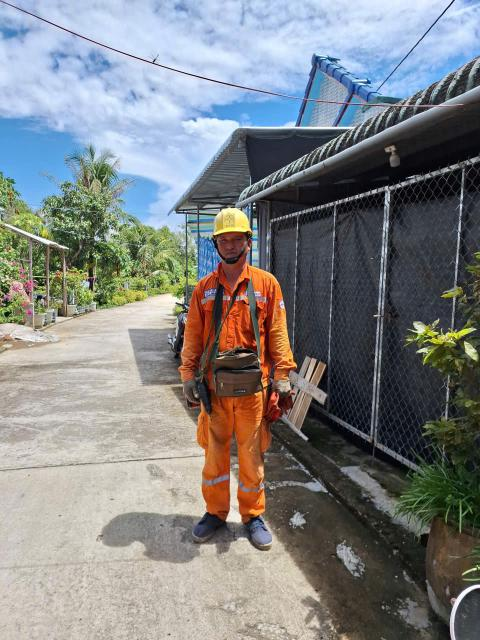gloves: (173, 372, 212, 412), (264, 370, 299, 404)
helmet: (202, 210, 262, 238)
shoes: (182, 495, 227, 544), (239, 507, 282, 554)
